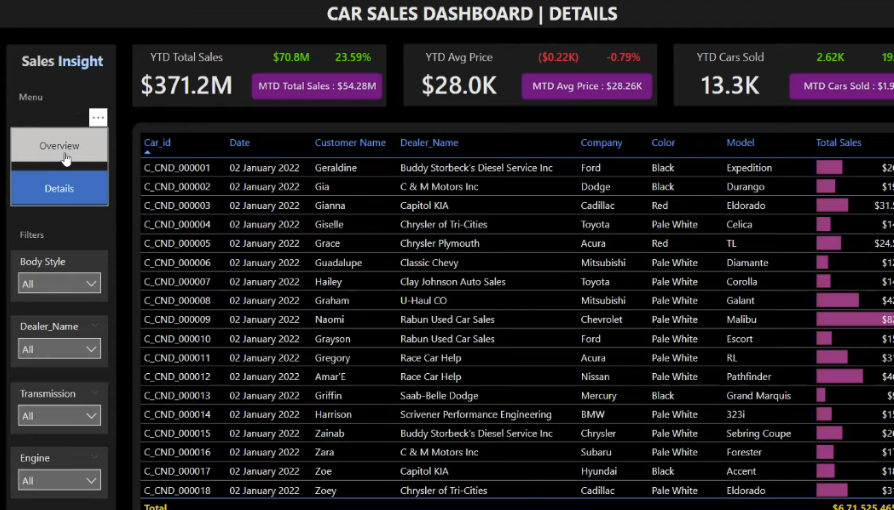

The dashboard page shown, as its layout file describes it:
{"tool":"powerbi","page":{"name":"DEATILS","canvas":[1280,720],"ordinal":1},"visuals":[{"type":"cardVisual","title":"YTP TOTAL SALES","fields":{"Data":["car_data.YTD TOTAL SALES"]},"box":[448.8,61.5,212.3,101.3],"z":0},{"type":"cardVisual","title":"SALES DIFFERENCE","fields":{"Data":["car_data.SALES DIFFERENCE"]},"box":[270.2,0,187,76],"z":1000},{"type":"cardVisual","title":"SALES DIFFERENCE","fields":{"Data":["car_data.YOY Sales Growth"]},"box":[167.7,0,129.1,76],"z":2000},{"type":"cardVisual","fields":{"Data":["car_data.MTD KPI"]},"box":[167.4,75.5,236,74.1],"z":3000},{"type":"cardVisual","title":"YTD AVG SALES","fields":{"Data":["car_data.YTD AVG PRICE"]},"box":[1062.1,38.4,218.2,100.2],"z":4000},{"type":"cardVisual","title":"SALES DIFFERENCE","fields":{"Data":["car_data.AVG PRICE DIFF"]},"box":[644.2,76,187,76],"z":5000},{"type":"cardVisual","fields":{"Data":["car_data.MTD AVG PRICE"]},"box":[831.2,74.8,236.5,74.8],"z":6000},{"type":"textbox","box":[457.2,0,444,61.5],"z":7000},{"type":"slicer","fields":{"Values":["car_data.Dealer_Name"]},"box":[0,516.4,148.4,73.6],"z":8000},{"type":"slicer","fields":{"Values":["car_data.Body Style"]},"box":[0,423.5,148.4,73.6],"z":9000},{"type":"slicer","fields":{"Values":["car_data.Transmission"]},"box":[0,337.8,148.4,73.6],"z":10000},{"type":"slicer","fields":{"Values":["car_data.Engine"]},"box":[0,611.7,148.4,73.6],"z":11000},{"type":"pivotTable","fields":{"Rows":["car_data.Car_id","car_data.Customer Name","car_data.Date","car_data.Color","car_data.Dealer_Name","car_data.Model"],"Columns":["car_data.Company"],"Values":["car_data.TOTAL SALES"]},"box":[177.3,167.7,1048.4,539.3],"z":12000}]}

Visuals, with their boxes on the page's 1280x720 design canvas (x1, y1, x2, y2). These are canvas units, not pixel positions in the 894x510 screenshot, which may show the page scaled, cropped or inside an application window:
"YTP TOTAL SALES" cardVisual: <bbox>449, 62, 661, 163</bbox>
"SALES DIFFERENCE" cardVisual: <bbox>270, 0, 457, 76</bbox>
"SALES DIFFERENCE" cardVisual: <bbox>168, 0, 297, 76</bbox>
cardVisual - car_data.MTD KPI: <bbox>167, 76, 403, 150</bbox>
"YTD AVG SALES" cardVisual: <bbox>1062, 38, 1280, 139</bbox>
"SALES DIFFERENCE" cardVisual: <bbox>644, 76, 831, 152</bbox>
cardVisual - car_data.MTD AVG PRICE: <bbox>831, 75, 1068, 150</bbox>
textbox: <bbox>457, 0, 901, 62</bbox>
slicer - car_data.Dealer_Name: <bbox>0, 516, 148, 590</bbox>
slicer - car_data.Body Style: <bbox>0, 424, 148, 497</bbox>
slicer - car_data.Transmission: <bbox>0, 338, 148, 411</bbox>
slicer - car_data.Engine: <bbox>0, 612, 148, 685</bbox>
pivotTable - car_data.Car_id x car_data.Customer Name: <bbox>177, 168, 1226, 707</bbox>
